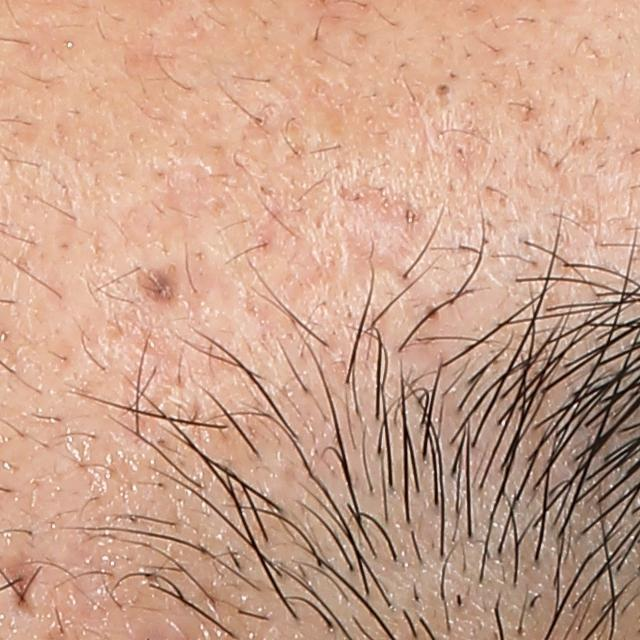atrophic_scar: (328, 170, 432, 303), (1, 551, 42, 617)
comedo: (424, 74, 464, 105)
nevus: (134, 261, 181, 309)
